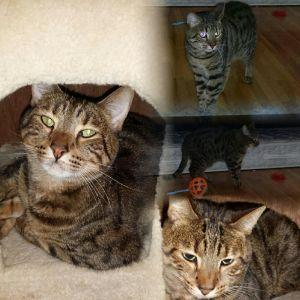bengal: (14, 65, 141, 191)
